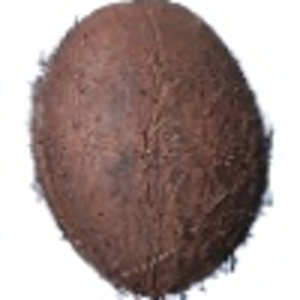coco: (30, 1, 275, 300)
